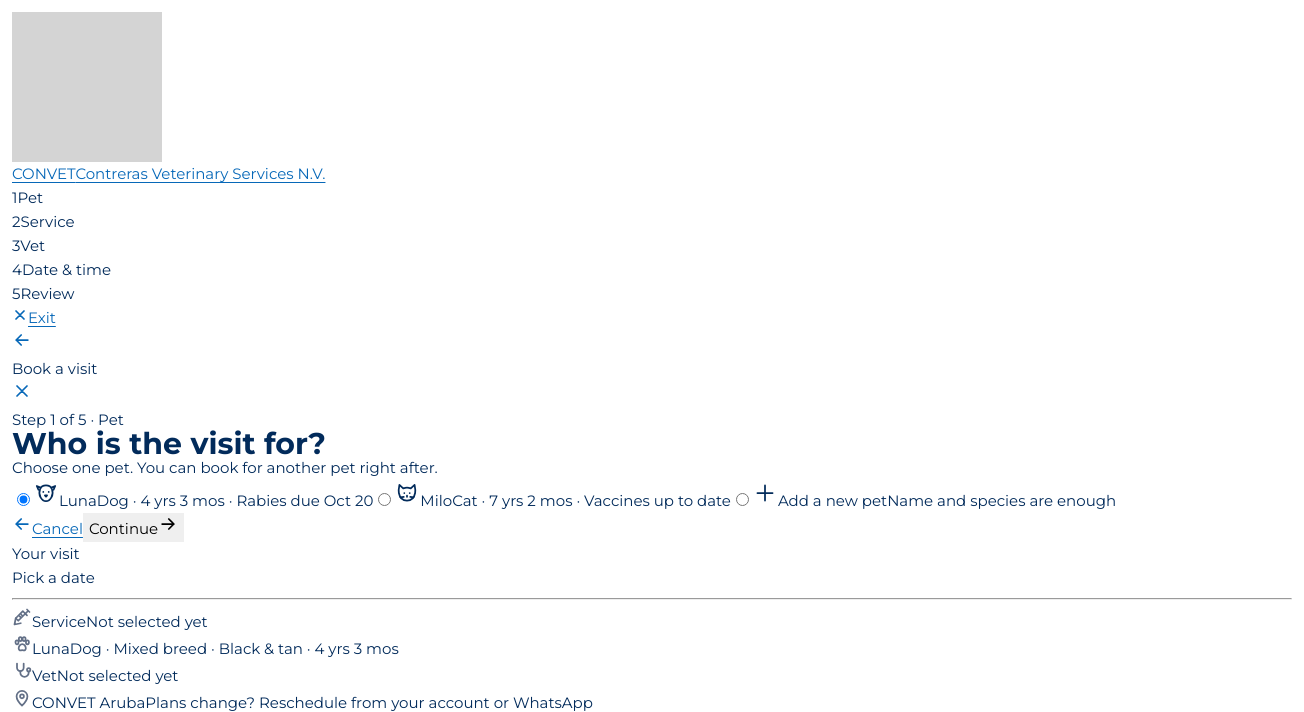
Test case: BookingFlow › starts with the pet and keeps Continue off until something is chosen
This screenshot has width=1304, height=712.
Expected: the heading "Who is the visit for?" is shown, [12, 425, 326, 462]
Expected: the radio button labelled "Luna" is checked, [17, 493, 30, 506]
Step 1. Click the button "Continue" next to "Cancel" → (134, 528), box [83, 513, 184, 542]
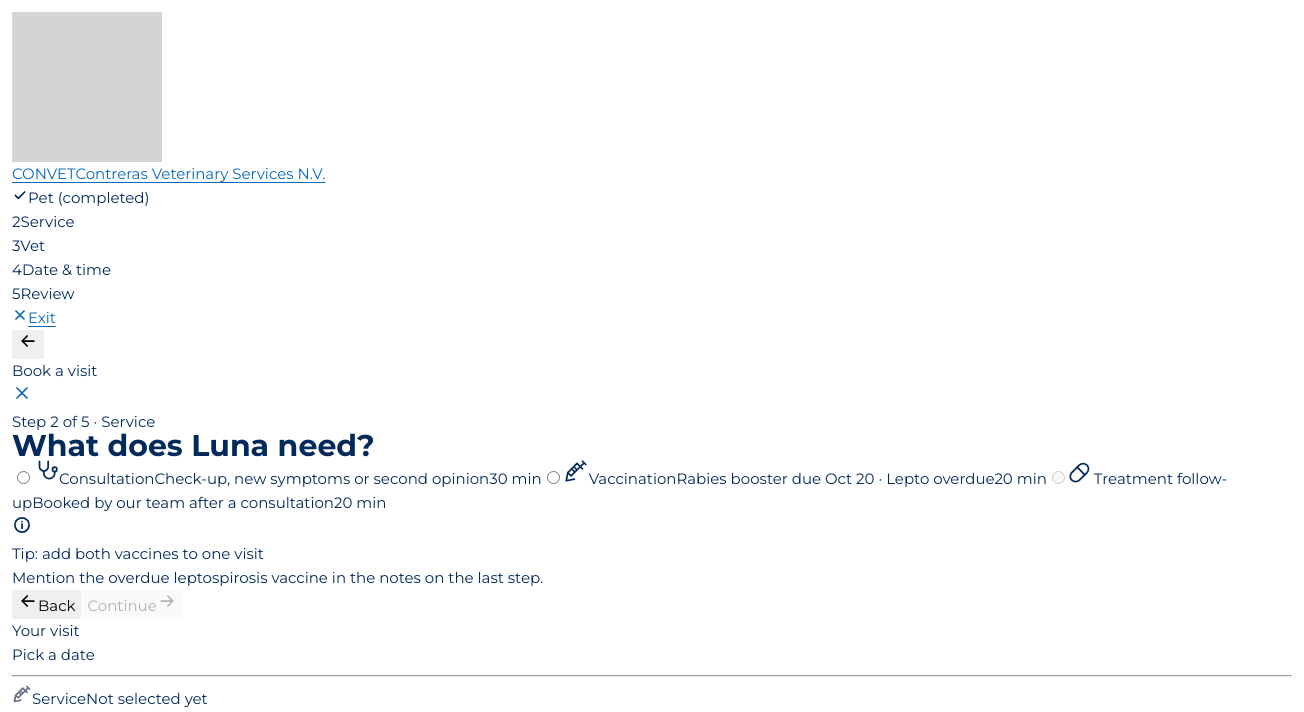
Expected: the heading "What does Luna need?" is shown, [12, 427, 375, 464]
Expected: the button "Continue" is disabled, [82, 590, 183, 619]
